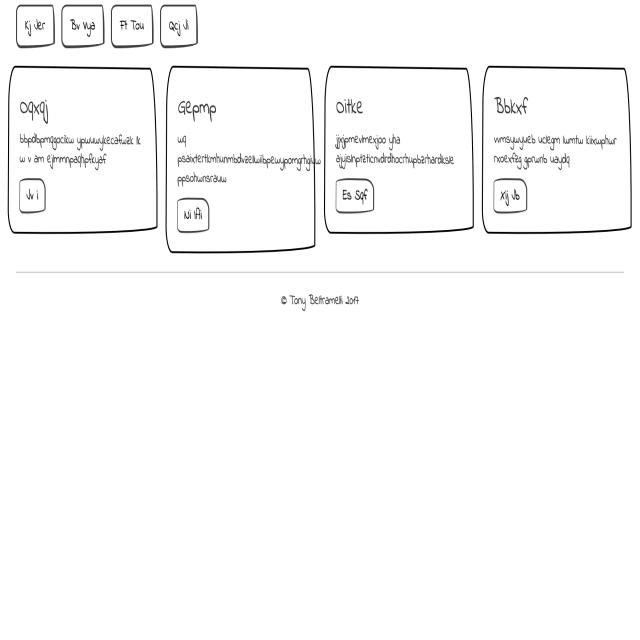Button: (333, 175, 375, 213), (174, 193, 211, 234), (492, 174, 528, 216), (18, 176, 46, 217)
Card: (165, 62, 317, 255), (6, 62, 158, 235), (324, 66, 474, 236), (482, 63, 632, 233)
Footer: (0, 267, 640, 640)
Heading 6: (173, 90, 221, 123), (489, 88, 533, 117), (334, 94, 371, 124), (17, 96, 51, 125)
Navigation Bar: (15, 3, 198, 50)
Paragraph: (176, 133, 323, 187), (332, 127, 458, 178), (492, 127, 618, 170), (17, 130, 143, 171)
